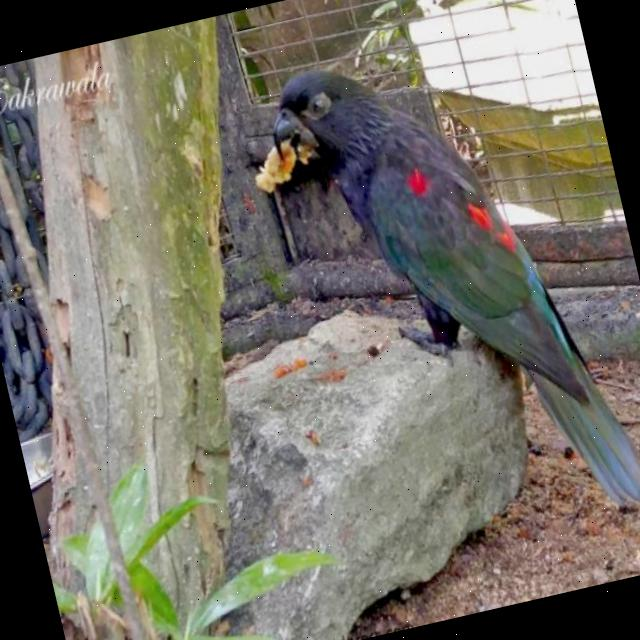Nuri Hitam: (239, 0, 640, 579)
